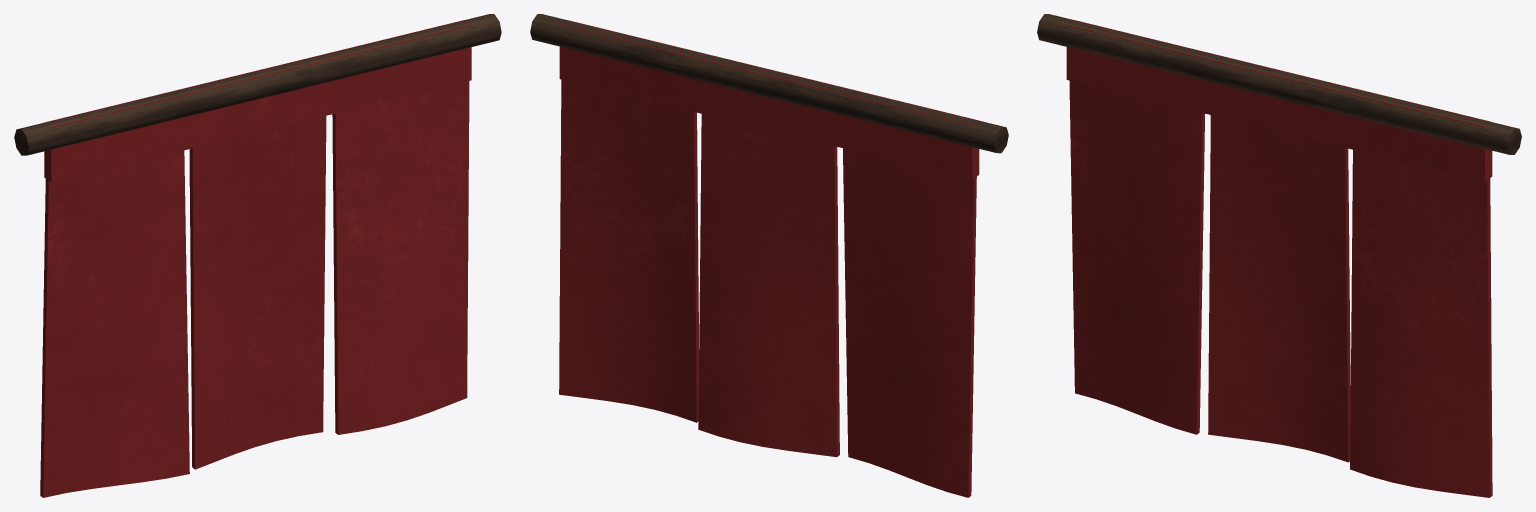
The model's file is HO_Prop_Noren_4_Crimson.fbx.
The picture shows the model from 3 angles, left to right: view 1: azimuth 30°, elevation 25°; view 2: azimuth 150°, elevation 25°; view 3: azimuth 330°, elevation 25°; orthographic projection.
Parts seen in each view (by area): view 1: HO_Prop_Noren_4_Crimson; view 2: HO_Prop_Noren_4_Crimson; view 3: HO_Prop_Noren_4_Crimson.
Boxes of the visible parts, box(x1,y1,x2,y2) form: HO_Prop_Noren_4_Crimson: box(14, 14, 501, 497); HO_Prop_Noren_4_Crimson: box(530, 14, 1008, 497); HO_Prop_Noren_4_Crimson: box(1037, 14, 1521, 497).
Bounding box in the file's own units: 4.5 × 3.44 × 0.25.
